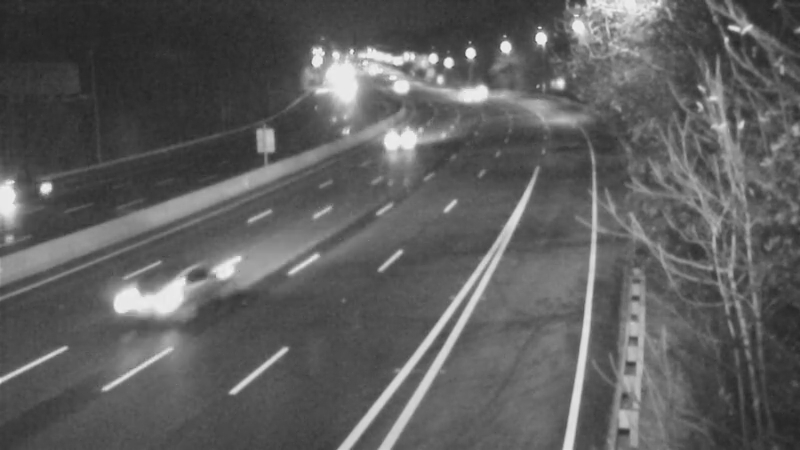vehicle: (111, 259, 191, 339), (1, 151, 68, 231), (372, 60, 422, 110), (430, 71, 480, 121), (459, 68, 509, 118), (375, 113, 425, 163)
